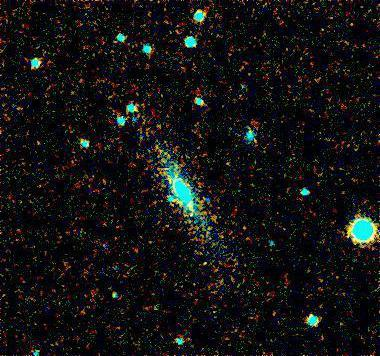star: (175, 200, 205, 230)
